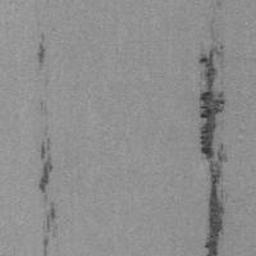Inclusion: (198, 44, 229, 256), (38, 137, 59, 256), (37, 32, 46, 72), (209, 17, 218, 42), (38, 100, 49, 118)
